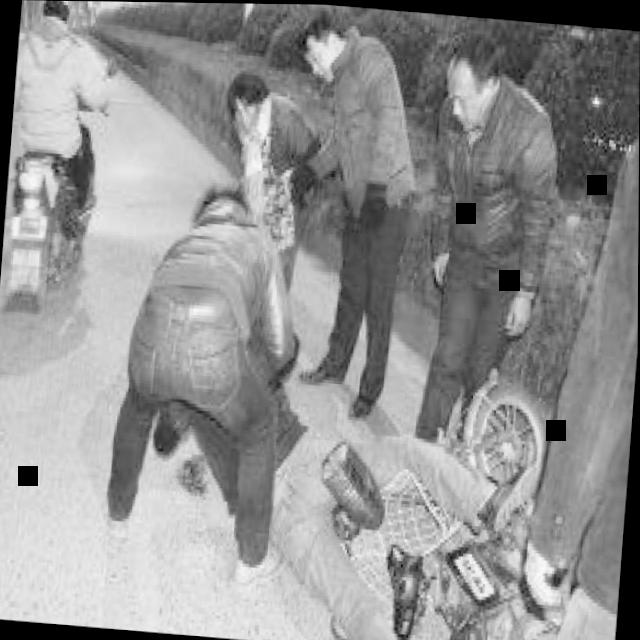Fall-Detected: (241, 341, 493, 640)
